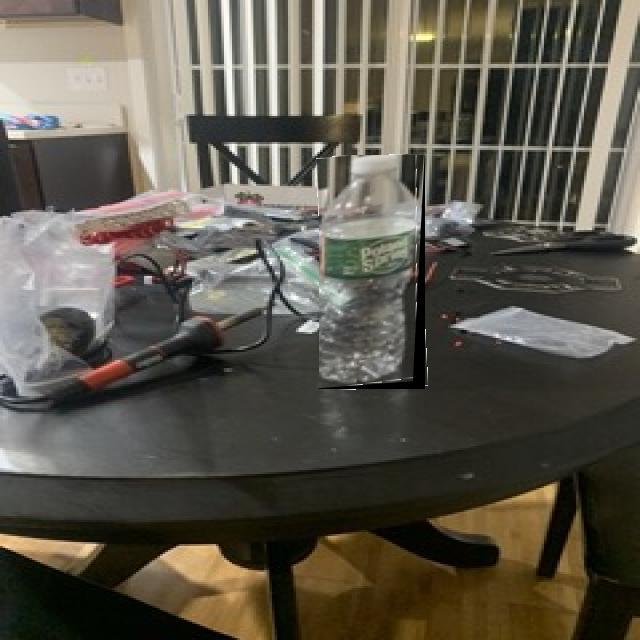water_bottle: (319, 155, 425, 389)
